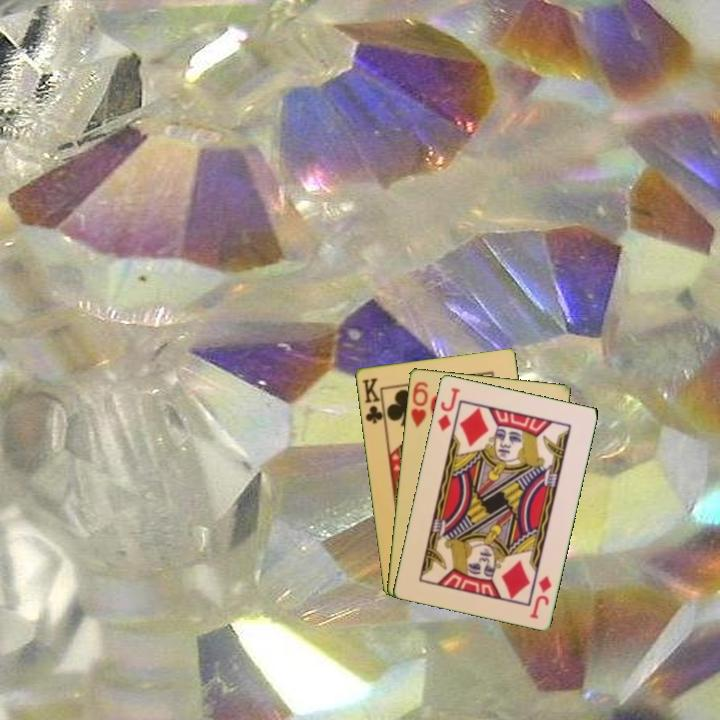6h: (407, 378, 431, 430)
Jd: (434, 383, 462, 434), (526, 572, 554, 621)
Kc: (358, 374, 387, 427)
